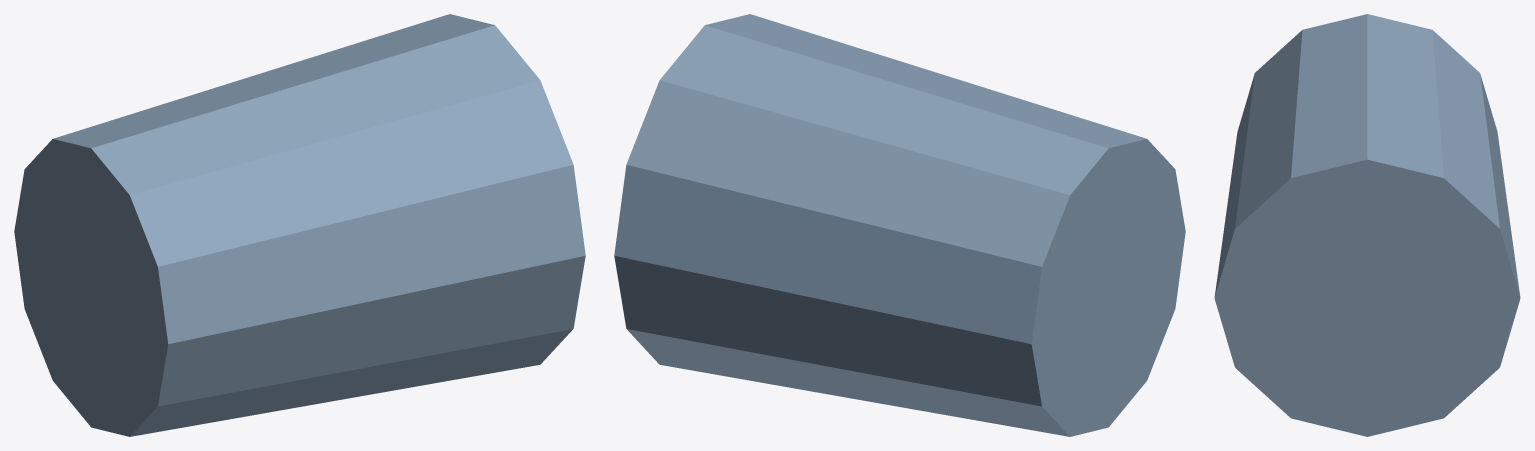
The model's file is bone_24.obj.
3 renders of one model, left to right at view 1: azimuth 30°, elevation 25°; view 2: azimuth 150°, elevation 25°; view 3: azimuth 270°, elevation 25°, orthographic. The views are drawn at different scales.
Parts seen in each view (by area): view 1: bone_24; view 2: bone_24; view 3: bone_24.
Boxes of the visible parts, x1,y1,x2,y2 form: bone_24: (14,14,585,436); bone_24: (614,14,1185,436); bone_24: (1214,14,1520,436).
Bounding box in the file's own units: 0.018 × 0.014 × 0.014.
